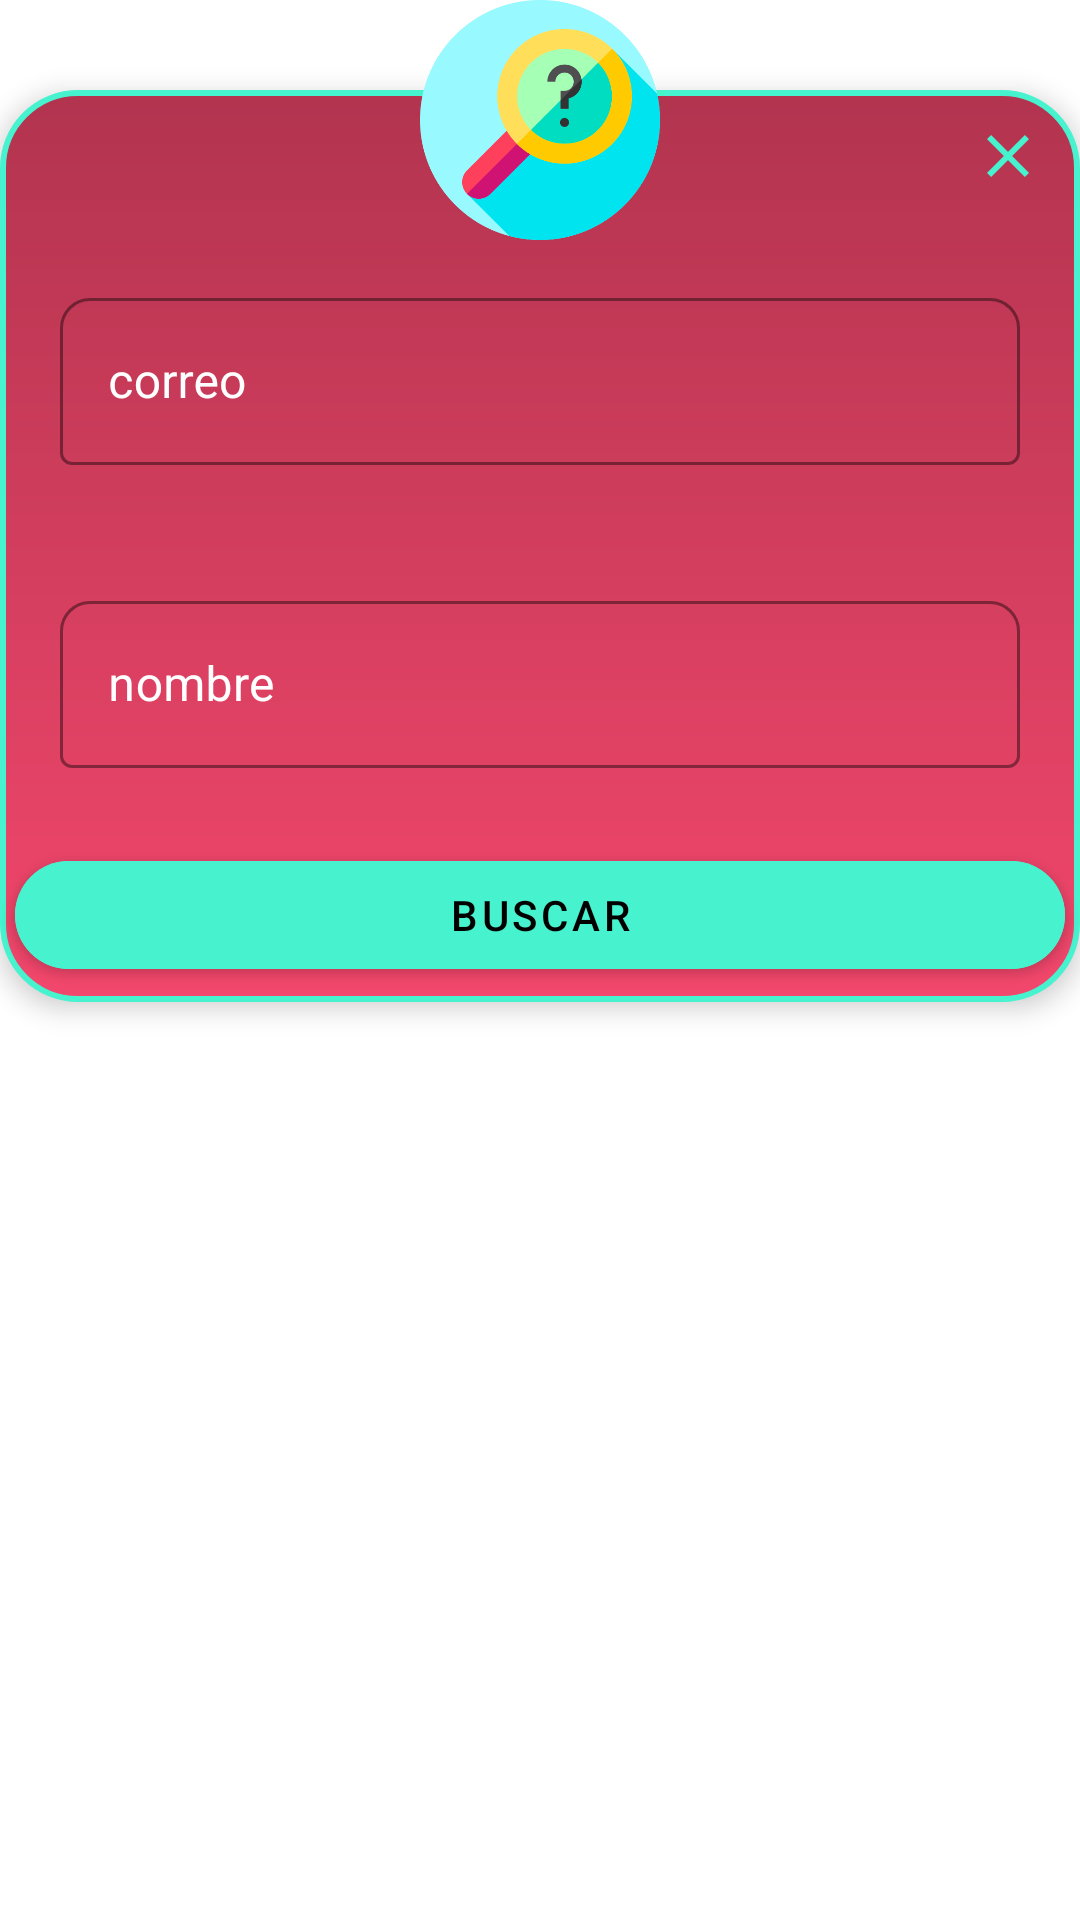

Screen size 1080w x 1920h. Icon name, then its center in pixels as [x,y]:
search: [540,120]
